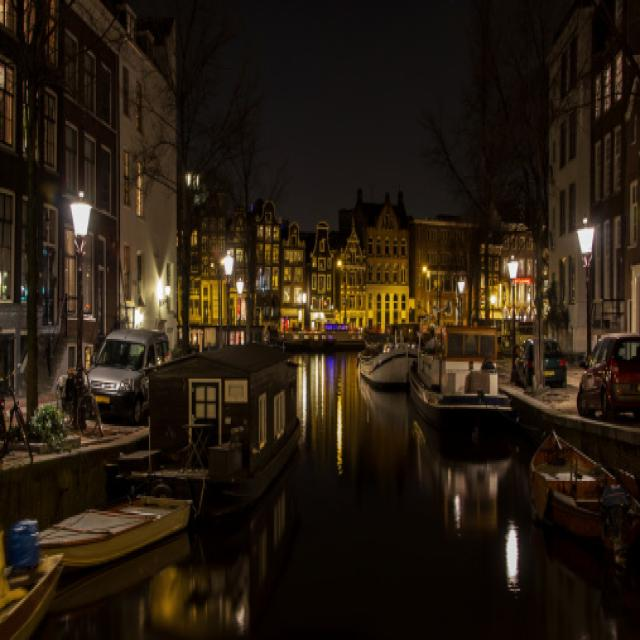Boat: (0, 473, 198, 640), (148, 332, 319, 505), (512, 388, 640, 577), (412, 318, 513, 487), (348, 299, 427, 405)
car: (54, 314, 181, 411), (564, 316, 640, 432), (517, 316, 565, 398)
